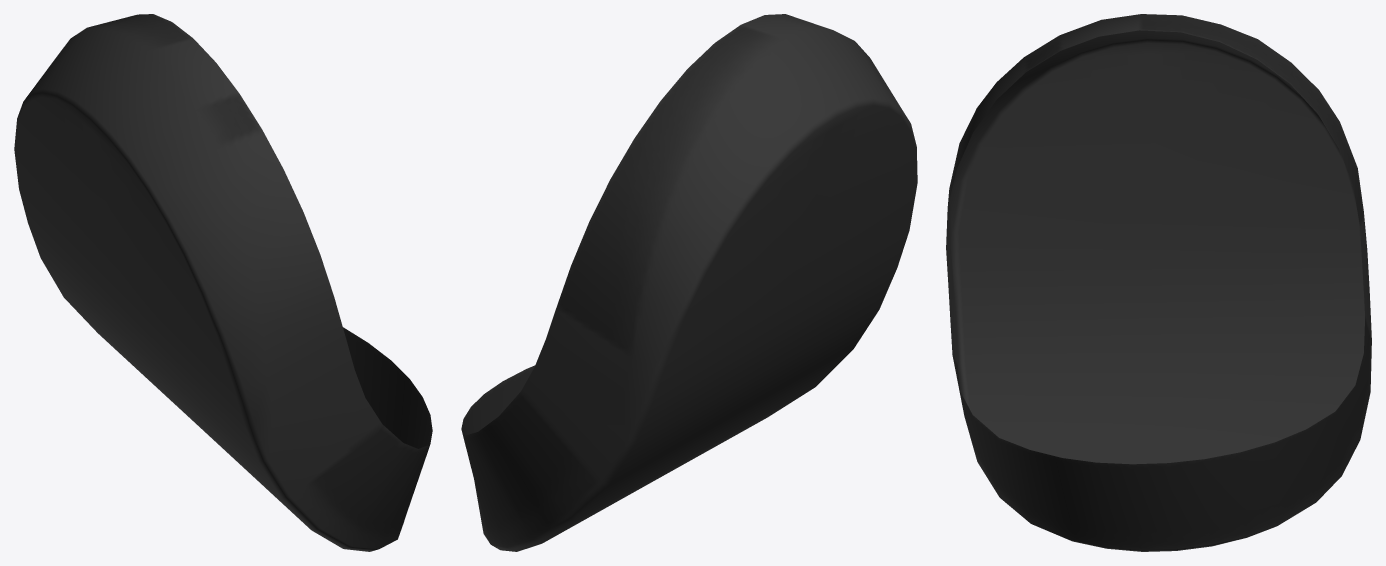
File: GRASP.obj
The picture shows the model from 3 angles, left to right: view 1: azimuth 30°, elevation 25°; view 2: azimuth 150°, elevation 25°; view 3: azimuth 270°, elevation 25°; orthographic projection. The views are drawn at different scales.
Bounding box in the file's own units: 0.0115 × 0.0176 × 0.0154.
